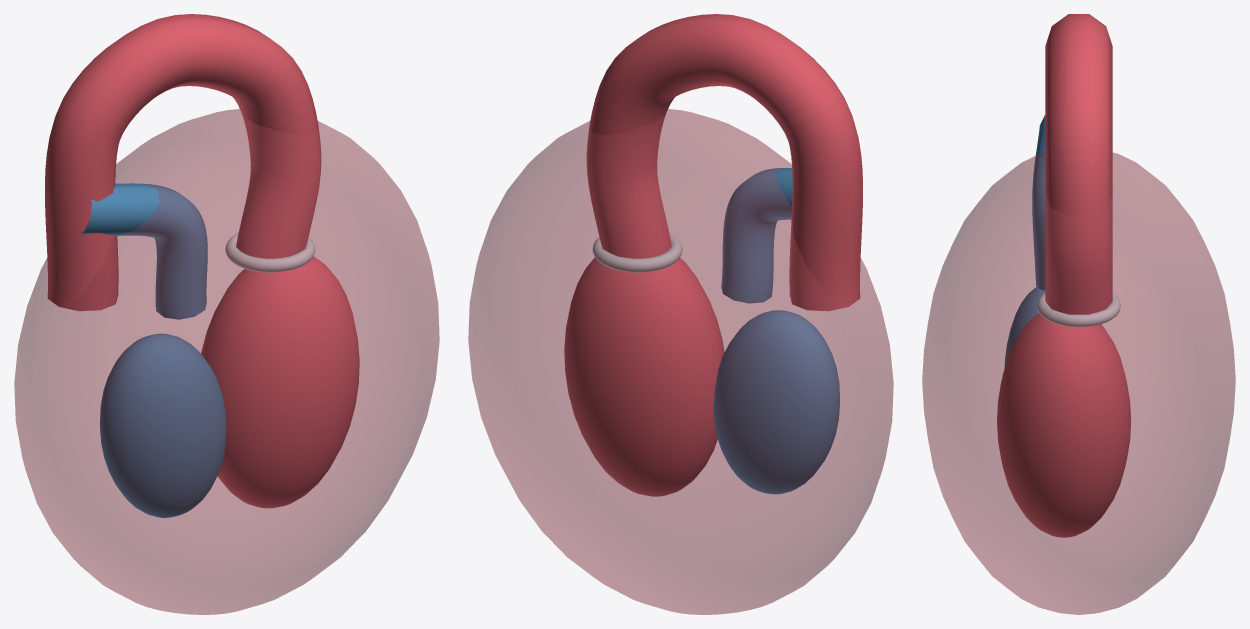
File: cutaway-heart-aorta.glb
3 renders of one model, left to right at view 1: azimuth 30°, elevation 25°; view 2: azimuth 150°, elevation 25°; view 3: azimuth 270°, elevation 25°, orthographic. The views are drawn at different scales.
Parts seen in each view (by area): view 1: HeartCutaway, Aorta, LeftVentricle, RightVentricle, PulmonaryArtery, AorticValve; view 2: HeartCutaway, Aorta, LeftVentricle, RightVentricle, PulmonaryArtery, AorticValve; view 3: HeartCutaway, LeftVentricle, Aorta, PulmonaryArtery, AorticValve, RightVentricle.
Boxes of the visible parts, x1,y1,x2,y2 form: HeartCutaway: (14,109,439,614); Aorta: (45,14,321,311); LeftVentricle: (201,256,359,508); RightVentricle: (100,333,226,517); PulmonaryArtery: (80,183,207,319); AorticValve: (225,233,315,272); HeartCutaway: (468,109,893,614); Aorta: (586,14,862,311); LeftVentricle: (564,257,724,496); RightVentricle: (713,310,839,494); PulmonaryArtery: (721,168,792,303); AorticValve: (592,233,682,272); HeartCutaway: (922,152,1235,614); LeftVentricle: (997,313,1131,537); Aorta: (1045,14,1112,314); PulmonaryArtery: (1032,115,1045,290); AorticValve: (1037,293,1120,327); RightVentricle: (1004,286,1045,367).
Bounding box in the file's own units: 2.25 × 3.26 × 1.68.
